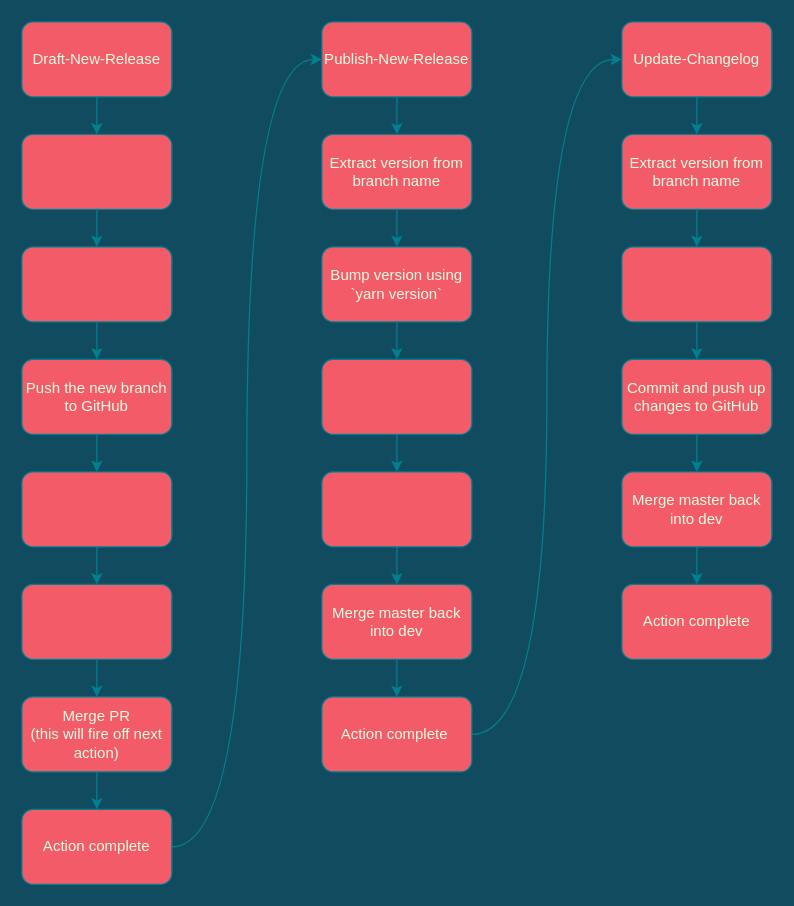
Some shapes in this 794 by 906 pixel diagram are drawn without their labels. The centre of each missing label's shape, as x and y in pixels:
"Add unreleased changelog as comment" belongs at [96,621].
"Checkout/create release branch" belongs at [96,171].
"Create prerelease PR" belongs at [96,509].
"Create relesae using GitHub API" belongs at [396,509].
"Push tags to Git" belongs at [396,396].
"Update changelog via yarn commands" belongs at [696,284].
"Update unreleased changelog via yarn commands" belongs at [96,284].
